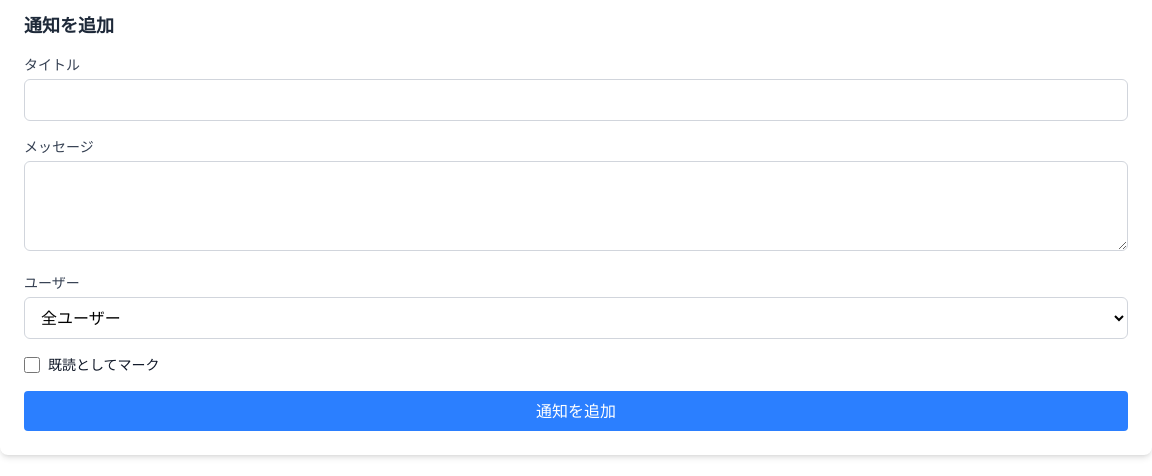
Test: NotificationForm Component › should handle form submission successfully
This screenshot has width=1152, height=476.
# Fill the form
In the field labelled "タイトル": (576, 100) [24,79,1128,121], type "Test Title"
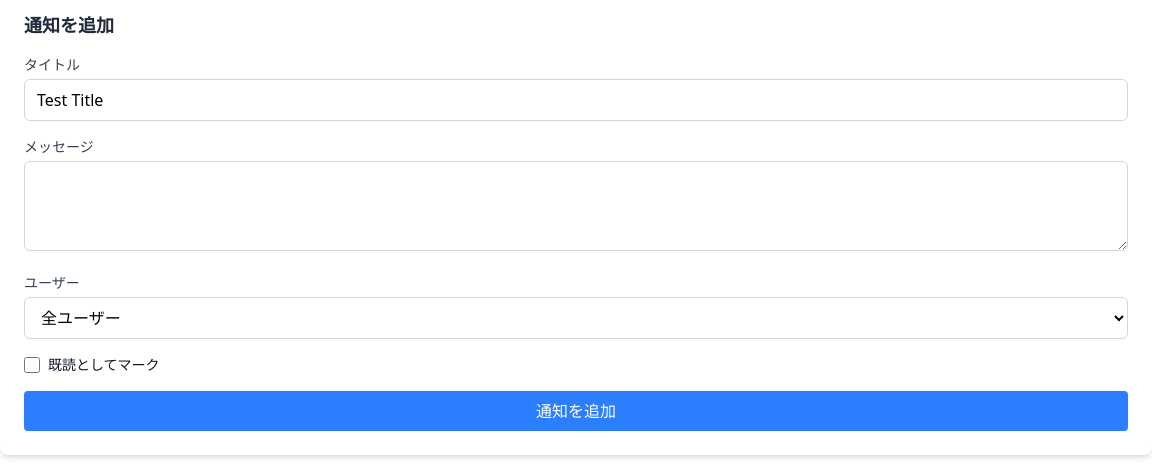
In the text box labelled "メッセージ": (576, 206) [24,161,1128,251], type "Test Message"
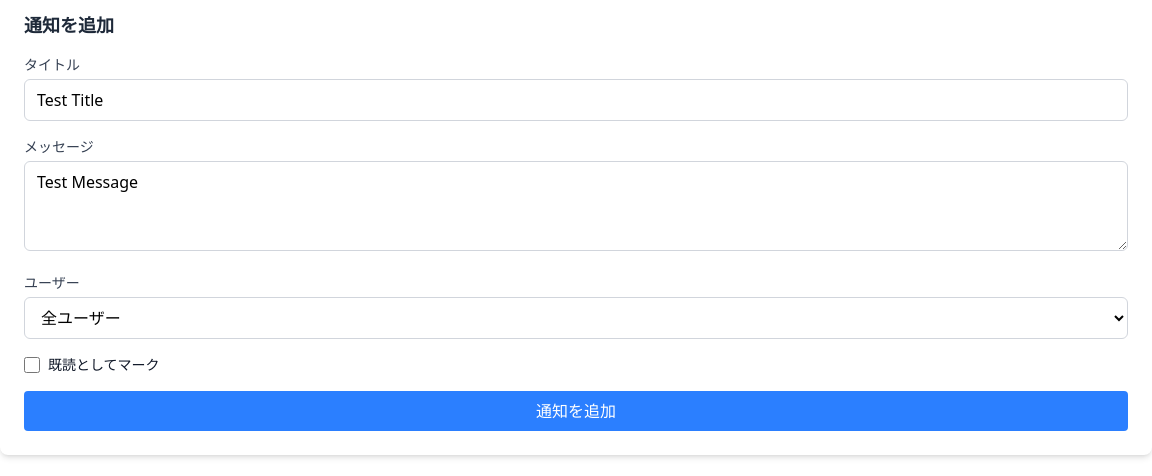
Click the checkbox labelled "既読としてマーク": (32, 365) [24,357,40,373]
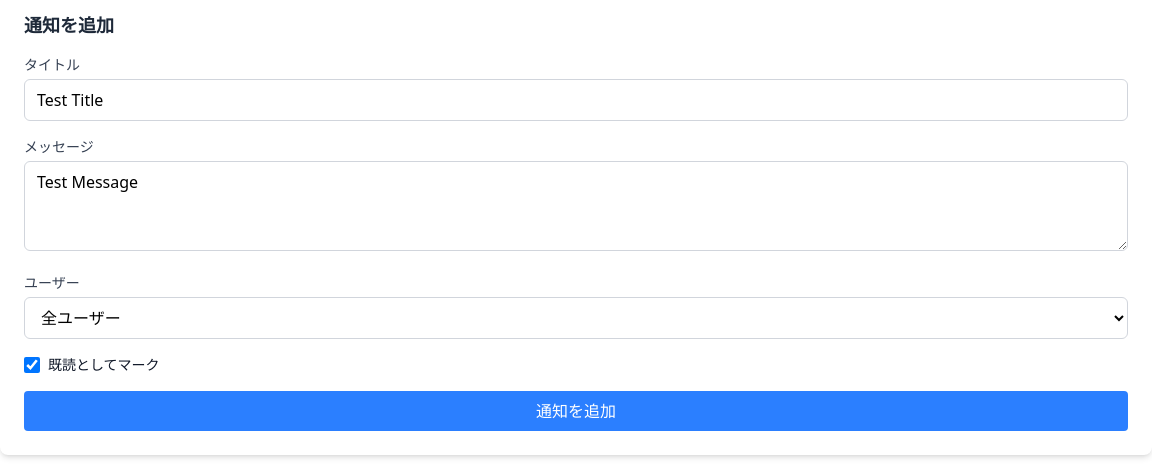
# Submit the form
Click the button "通知を追加": (576, 411) [24,391,1128,431]
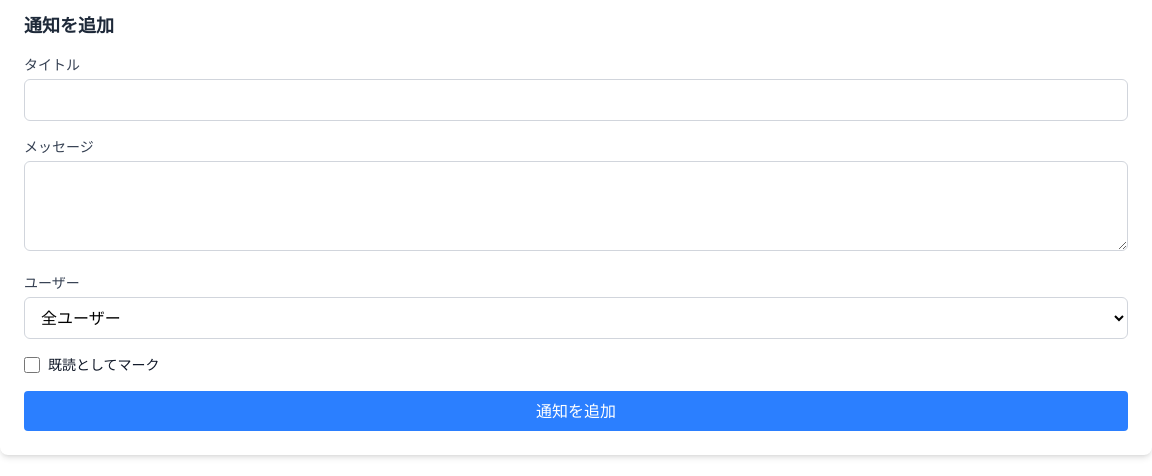
Expected: the checkbox labelled "既読としてマーク" is not checked, [24,357,40,373]
Expected: the field labelled "タイトル" is empty, [24,79,1128,121]
Expected: the text box labelled "メッセージ" is empty, [24,161,1128,251]
